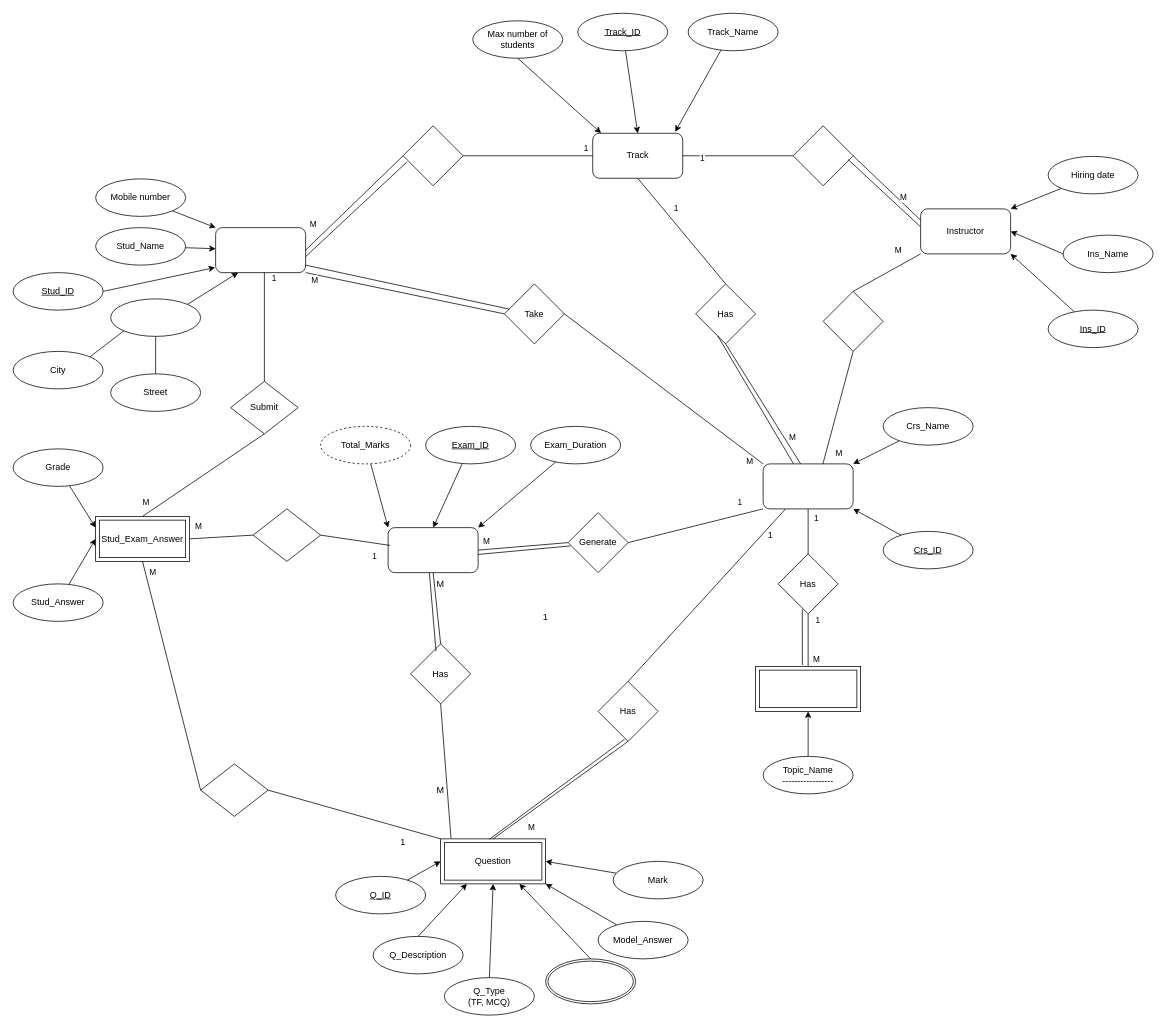
Some shapes in this 1166 by 1028 pixel diagram are drawn without their labels. Here are the shapes that lost their labels. From the top down, the centre of each, then its label:
At [432,155]: "Enroll".
At [822,155]: "Work".
At [260,250]: "Student".
At [155,317]: "Address".
At [852,321]: "Teach".
At [807,486]: "Course".
At [286,534]: "Store".
At [432,550]: "Exam".
At [808,688]: "Topic".
At [234,789]: "Answered in".
At [590,981]: "Q_AnswerOptions (MCQ)".
